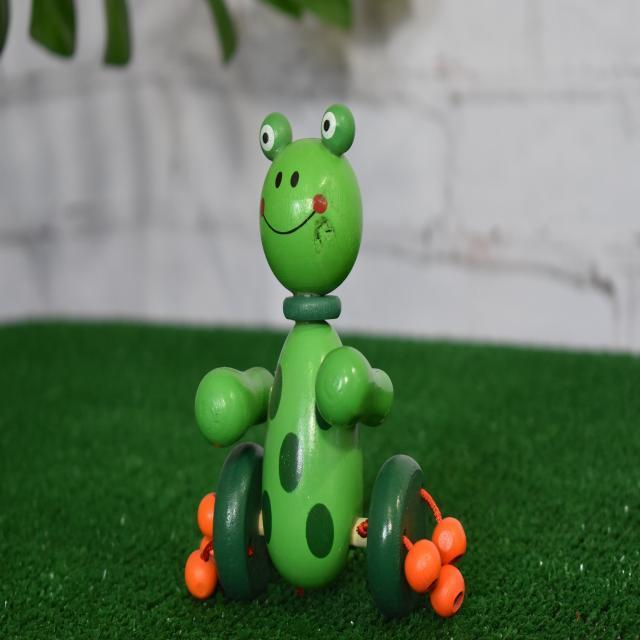hard-toy: (187, 106, 467, 618)
